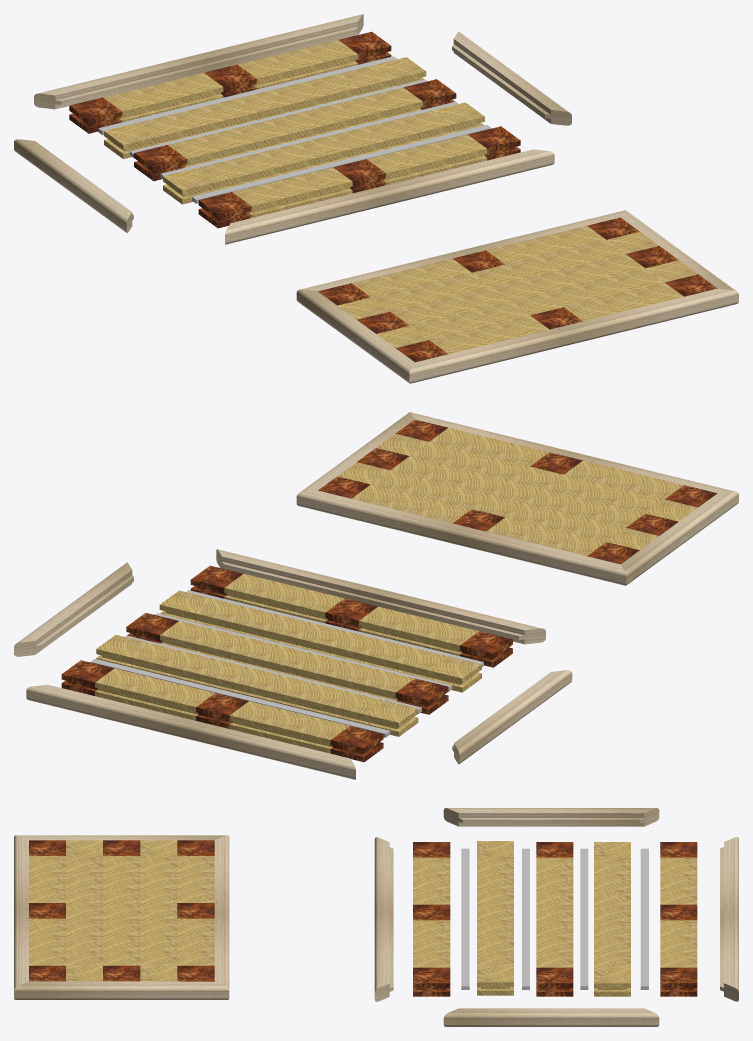
File: ultimate_cutting_board.dae
The picture shows the model from 3 angles, top to bottom: view 1: azimuth 30°, elevation 25°; view 2: azimuth 150°, elevation 25°; view 3: azimuth 270°, elevation 25°; orthographic projection. The views are drawn at different scales.
Parts seen in each view (by area): view 1: carrelet_base (×70), Différence (×8), carrelet_base_1 (×12), carrelet_base_2 (×8), baguette (×4); view 2: carrelet_base (×70), Différence (×8), carrelet_base_1 (×12), carrelet_base_2 (×8), baguette (×4); view 3: carrelet_base (×70), Différence (×8), carrelet_base_1 (×12), carrelet_base_2 (×8), baguette (×4).
Boxes of the visible parts, x1,y1,x2,y2 form: carrelet_base (×70): [103, 40, 683, 353]; Différence (×8): [14, 14, 738, 383]; carrelet_base_1 (×12): [69, 32, 717, 362]; carrelet_base_2 (×8): [104, 57, 697, 347]; baguette (×4): [98, 56, 491, 203]; carrelet_base (×70): [95, 427, 683, 753]; Différence (×8): [14, 412, 738, 779]; carrelet_base_1 (×12): [61, 419, 717, 762]; carrelet_base_2 (×8): [96, 433, 697, 736]; baguette (×4): [90, 590, 483, 737]; carrelet_base (×70): [29, 856, 697, 967]; Différence (×8): [14, 808, 738, 1026]; carrelet_base_1 (×12): [29, 840, 697, 996]; carrelet_base_2 (×8): [66, 840, 630, 996]; baguette (×4): [461, 848, 648, 989].
Bounding box in the file's own units: 23.46 × 34.58 × 0.7174.
